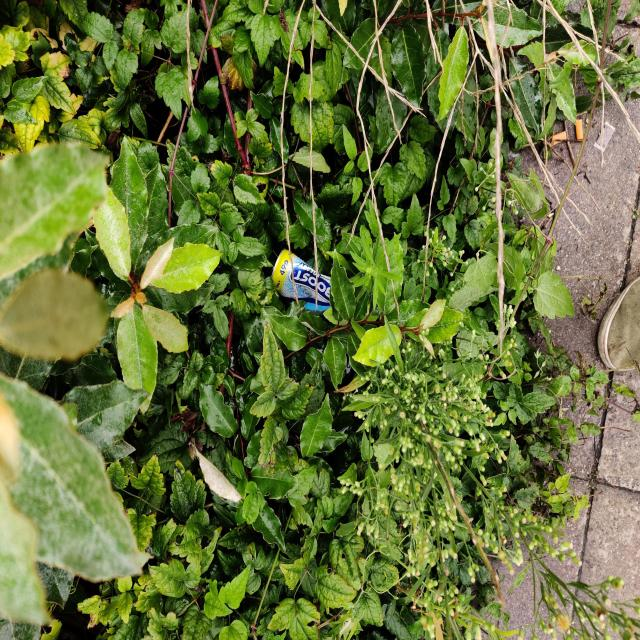litter: (272, 250, 332, 314)
